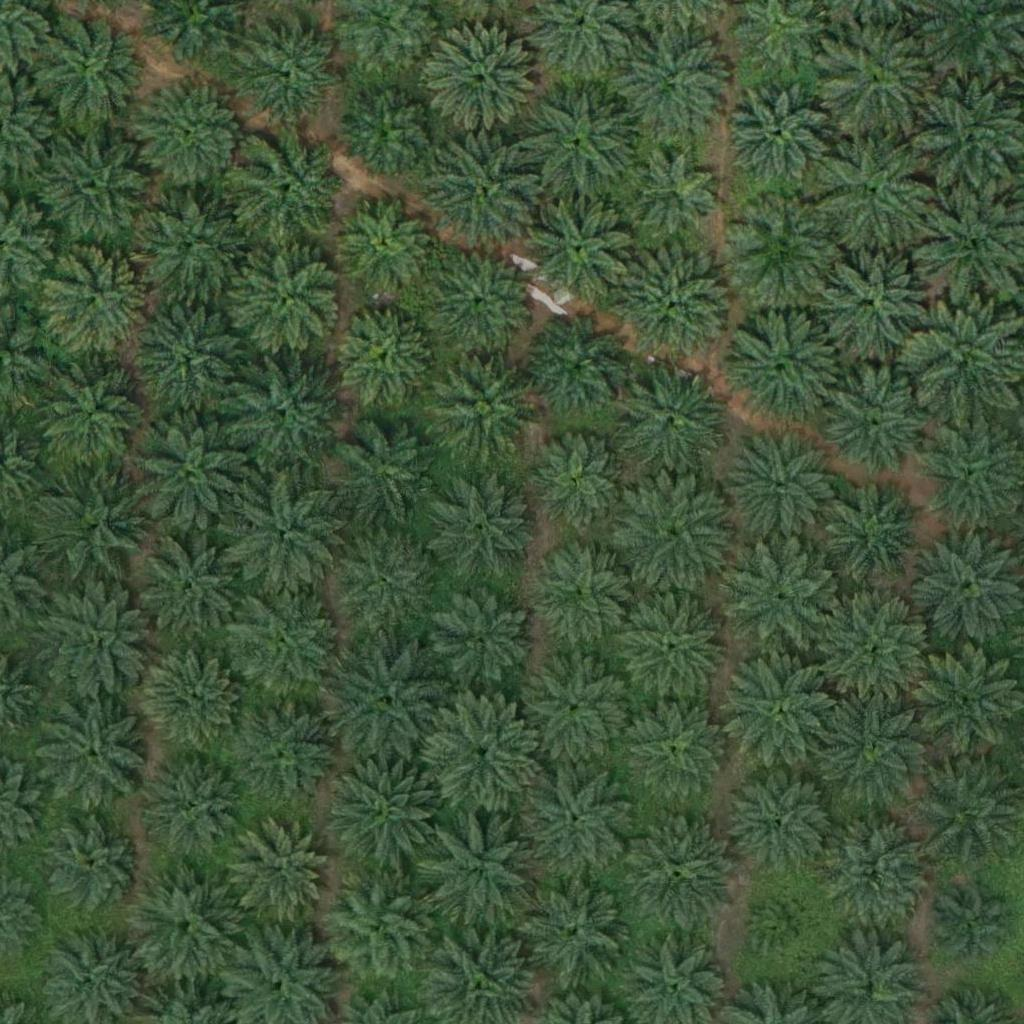Kelapa_Sawit: (28, 12, 141, 126), (135, 78, 248, 192), (233, 131, 346, 245), (230, 242, 343, 356), (819, 813, 932, 927), (725, 654, 838, 768), (331, 414, 444, 528), (320, 870, 433, 984), (131, 191, 244, 304), (427, 24, 540, 137), (523, 83, 636, 196), (524, 188, 637, 301), (618, 248, 731, 361), (728, 307, 841, 420), (819, 23, 932, 136), (910, 303, 1023, 416), (823, 594, 936, 707), (817, 689, 930, 802), (724, 429, 837, 542), (728, 545, 841, 658), (615, 364, 728, 477), (620, 478, 733, 591), (427, 697, 540, 810), (424, 809, 537, 922), (328, 527, 441, 640), (333, 646, 446, 759), (326, 758, 439, 871), (228, 358, 341, 471), (230, 480, 343, 593), (35, 582, 148, 695), (35, 698, 148, 811), (33, 810, 146, 923), (425, 349, 537, 463), (621, 592, 733, 706), (424, 473, 536, 587), (40, 130, 152, 243), (41, 245, 153, 358), (138, 298, 250, 411), (425, 137, 537, 250), (423, 247, 535, 360), (615, 30, 727, 143), (727, 193, 839, 306), (821, 135, 933, 248), (819, 241, 931, 354), (823, 365, 935, 478), (623, 818, 735, 931), (522, 655, 634, 768), (526, 765, 638, 878), (231, 586, 343, 699), (229, 699, 341, 812), (136, 417, 248, 530), (133, 528, 245, 641), (36, 361, 148, 474), (39, 476, 151, 589), (126, 869, 238, 982), (520, 874, 632, 987), (342, 80, 442, 181), (526, 315, 626, 416), (626, 148, 726, 249), (726, 81, 826, 182), (828, 482, 928, 583), (232, 818, 332, 919), (140, 650, 240, 751), (145, 756, 245, 857), (244, 20, 344, 120), (340, 195, 440, 295), (336, 307, 436, 407), (733, 771, 833, 871), (626, 702, 726, 802), (527, 434, 627, 534), (532, 548, 632, 648), (435, 592, 535, 692), (937, 893, 1012, 969), (754, 896, 816, 959)
